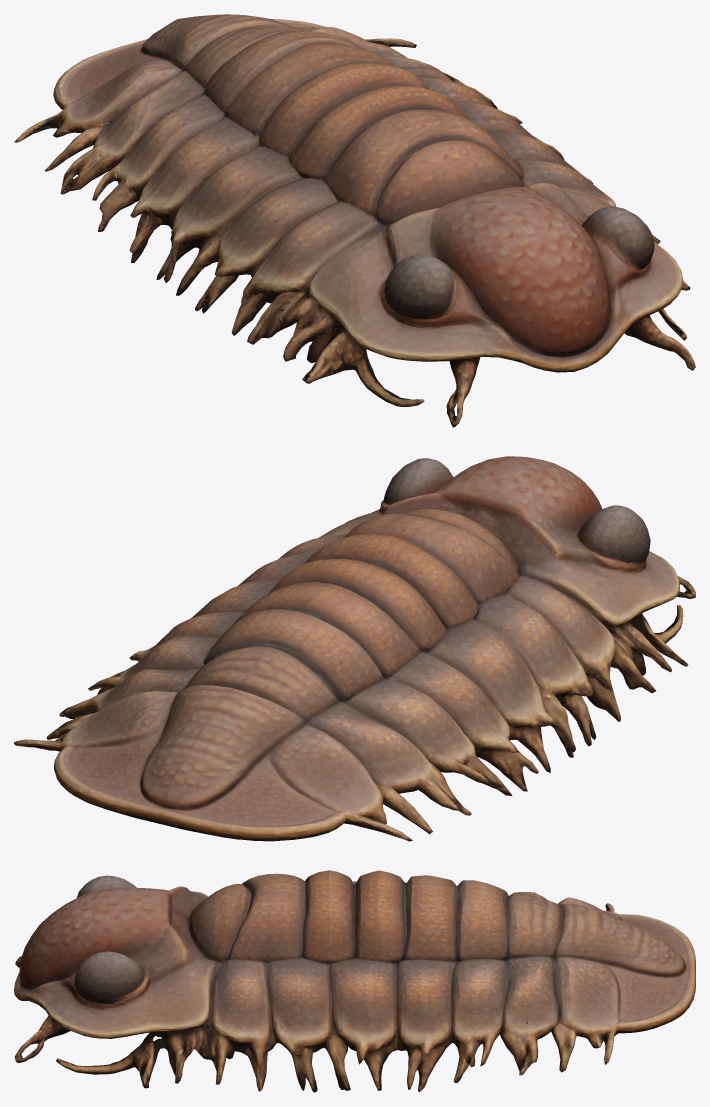
3 renders of one model, top to bottom at view 1: azimuth 30°, elevation 25°; view 2: azimuth 150°, elevation 25°; view 3: azimuth 270°, elevation 25°, orthographic. The views are drawn at different scales.
Visible parts, largest first — view 1: world; view 2: world; view 3: world.
Part boxes in pixels (x1=…): world: x1=14, y1=14, x2=695, y2=427; world: x1=14, y1=456, x2=695, y2=841; world: x1=14, y1=870, x2=695, y2=1092.
Bounding box in the file's own units: 0.5747 × 0.2222 × 1.
1 material, 1 textured.
